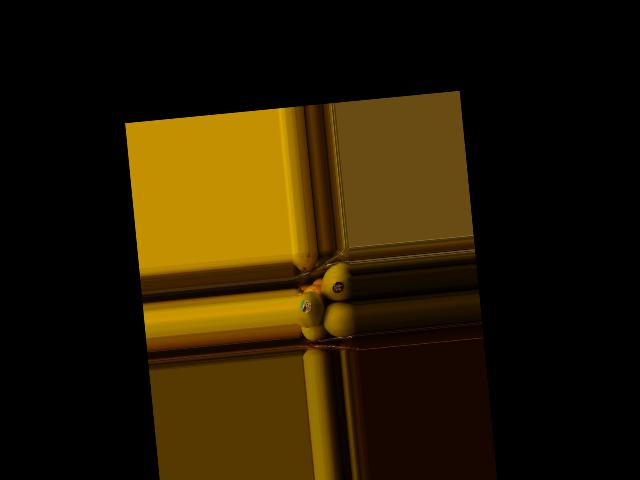apple: (295, 286, 325, 329)
